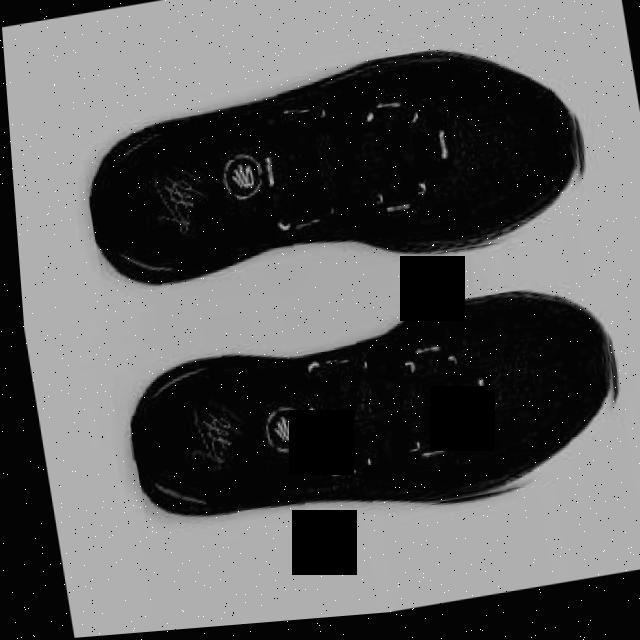shoe: (69, 36, 596, 314), (111, 284, 629, 559)
